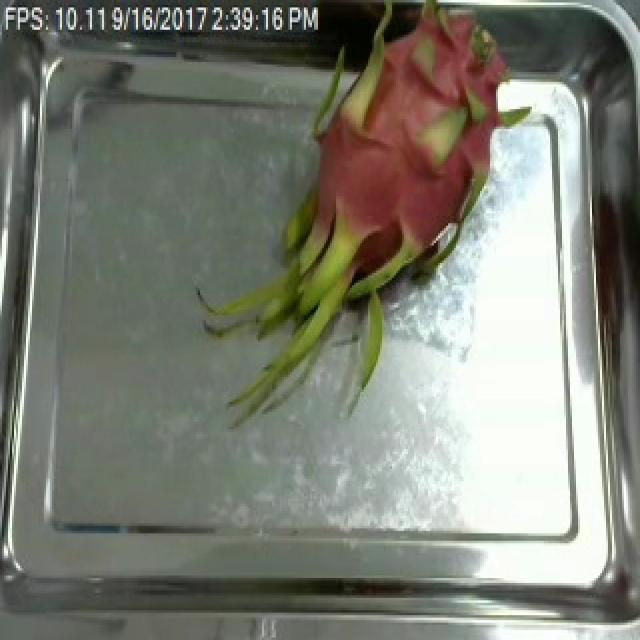fruit: (232, 0, 542, 414)
